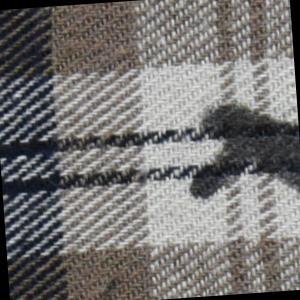Stain: (179, 91, 300, 212)
